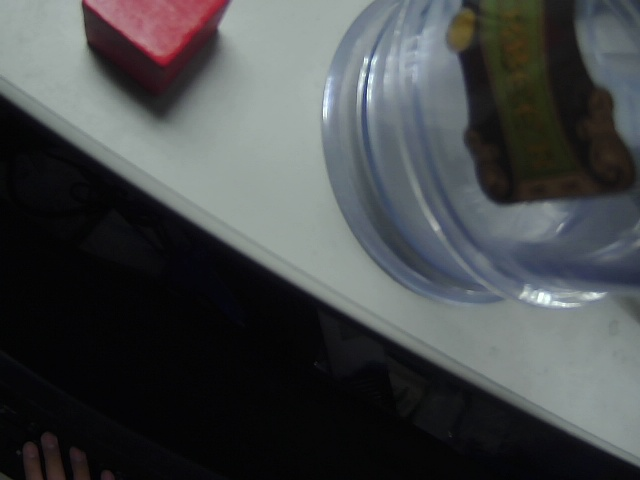redbox: (70, 1, 239, 106)
